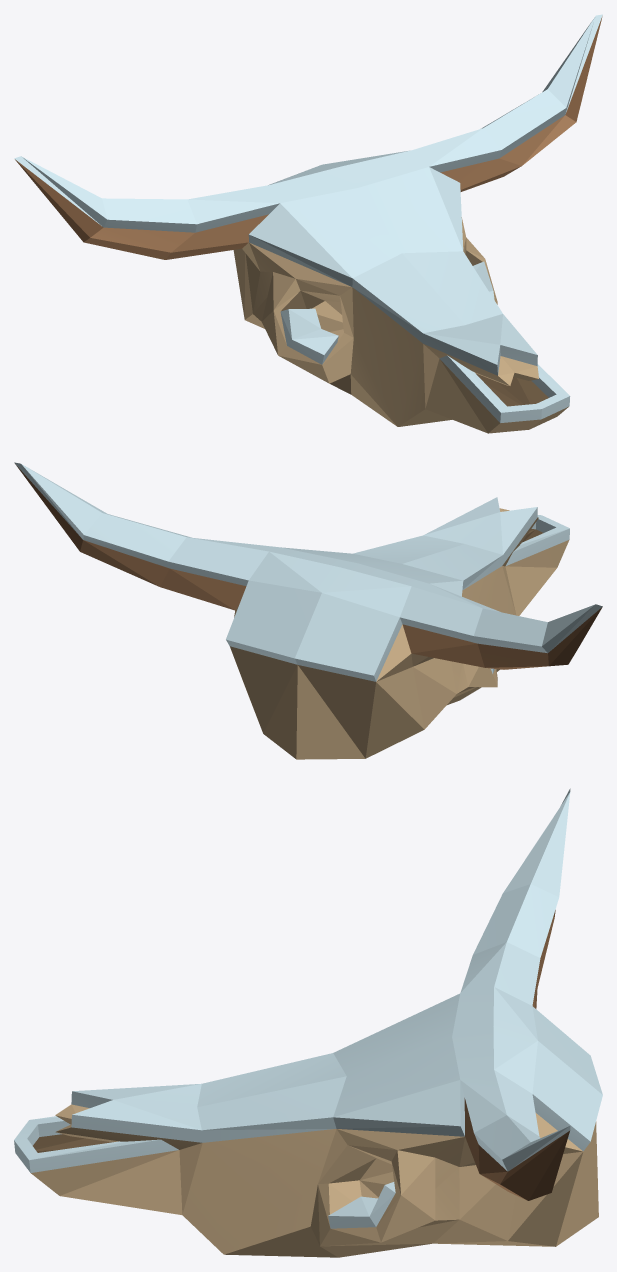
The model's file is Craneo_Vaca.glb.
3 views of the same model, one above another, from view 1: azimuth 30°, elevation 25°; view 2: azimuth 150°, elevation 25°; view 3: azimuth 270°, elevation 25° (orthographic). The views are drawn at different scales.
Visible parts, largest first — view 1: SM_Prop_Cow_Skull_01_Snow; view 2: SM_Prop_Cow_Skull_01_Snow; view 3: SM_Prop_Cow_Skull_01_Snow.
Part boxes in pixels (bbox=[...]): SM_Prop_Cow_Skull_01_Snow: bbox=[14, 14, 602, 433]; SM_Prop_Cow_Skull_01_Snow: bbox=[14, 462, 602, 759]; SM_Prop_Cow_Skull_01_Snow: bbox=[14, 788, 602, 1257].
Bounding box in the file's own units: 1.15 × 0.419 × 0.8357.
Materials: 1 (1 with a texture image).
